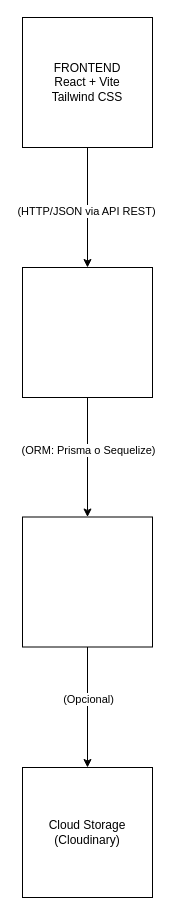
This 172x915 diagram has some shape labels left out. Each missing label, with the box of its shape:
BACKEND Node.js + Express Autenticación JWT: (22, 266, 152, 398)
BASE DE DATOS MySQL / MariaDB: (22, 516, 152, 647)
